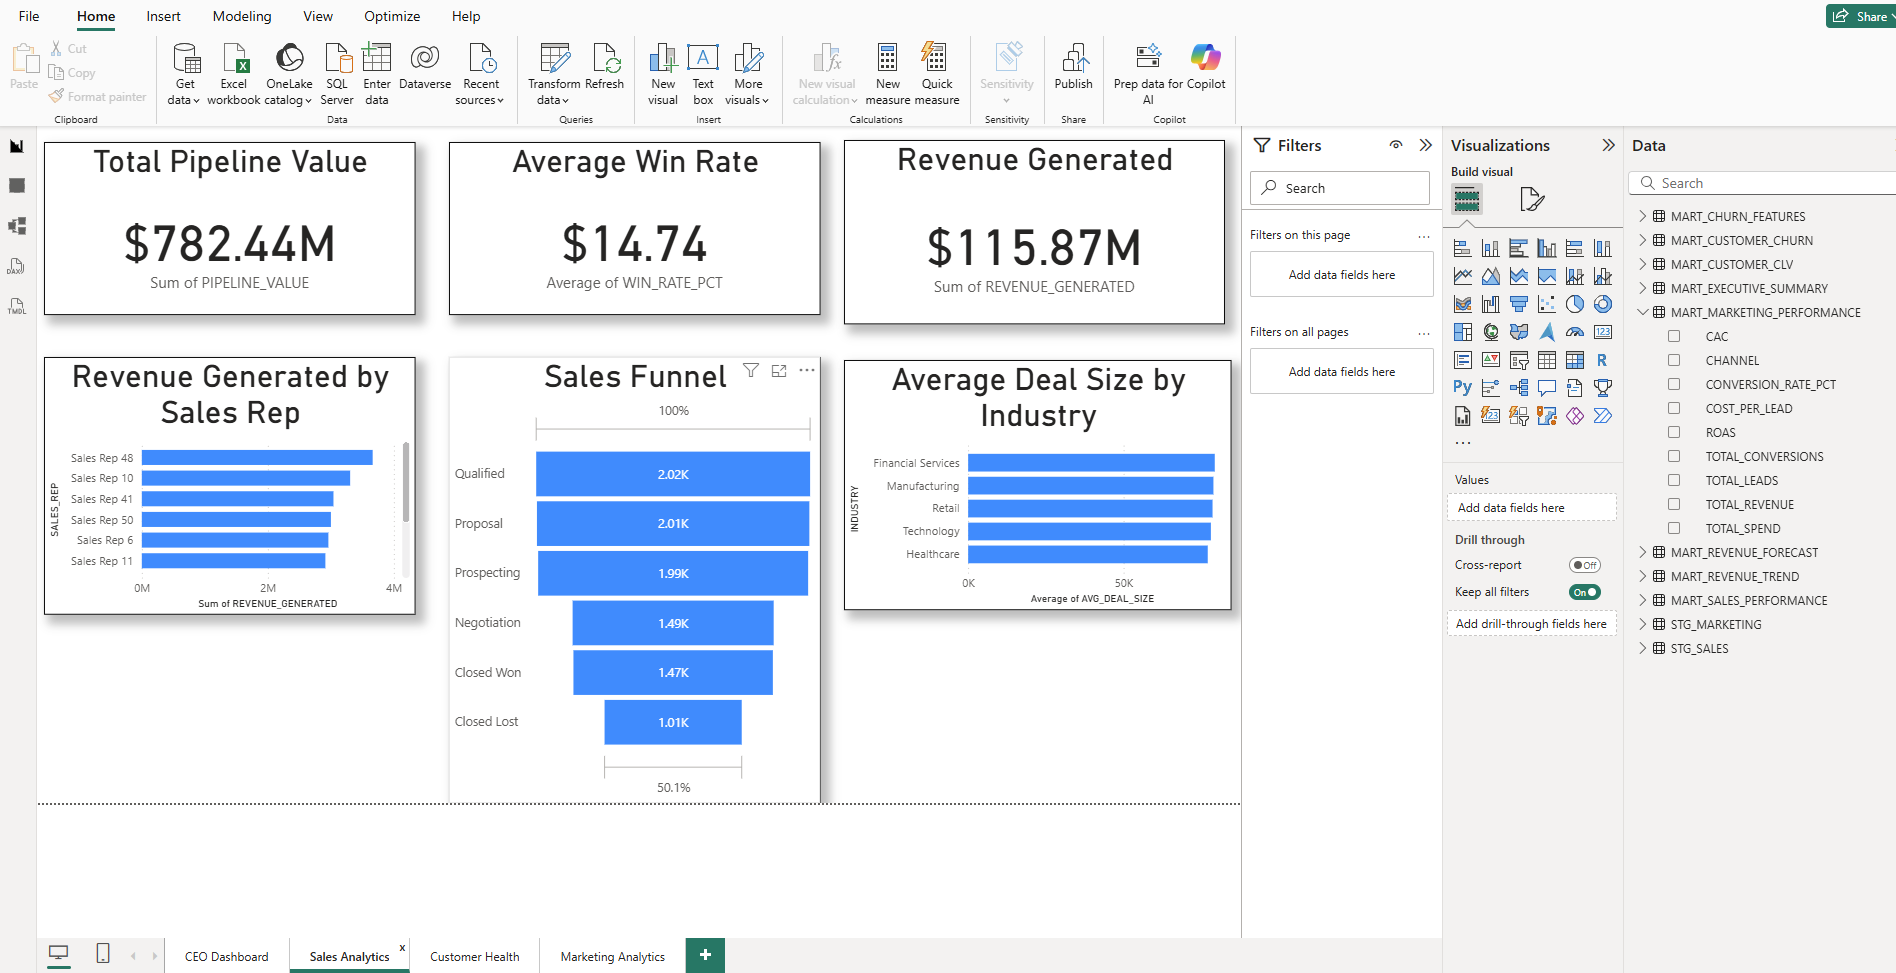

What the dashboard file says about the page in this screenshot:
{"tool":"powerbi","page":{"name":"Sales Analytics","canvas":[1280,720],"ordinal":1},"visuals":[{"type":"card","title":"Total Pipeline Value","fields":{"Values":["Sum(MART_SALES_PERFORMANCE.PIPELINE_VALUE)"]},"box":[7.8,16.5,394.9,183.8],"z":0},{"type":"card","title":"Average Win Rate","fields":{"Values":["Avg(MART_SALES_PERFORMANCE.WIN_RATE_PCT)"]},"box":[437.7,16.5,394.9,183.8],"z":1000},{"type":"card","title":"Revenue Generated","fields":{"Values":["Sum(MART_SALES_PERFORMANCE.REVENUE_GENERATED)"]},"box":[857.9,14.6,404.6,196.5],"z":2000},{"type":"clusteredBarChart","title":"Revenue Generated by Sales Rep","fields":{"Category":["MART_SALES_PERFORMANCE.SALES_REP"],"Y":["Sum(MART_SALES_PERFORMANCE.REVENUE_GENERATED)"]},"box":[7.5,245.1,394.9,274],"z":3000},{"type":"clusteredBarChart","title":"Average Deal Size by Industry","fields":{"Category":["MART_SALES_PERFORMANCE.INDUSTRY"],"Y":["Avg(MART_SALES_PERFORMANCE.AVG_DEAL_SIZE)"]},"box":[857.9,249,412.4,265.5],"z":4000},{"type":"funnel","title":"Sales Funnel","fields":{"Category":["STG_SALES.STAGE"],"Y":["CountNonNull(STG_SALES.OPPORTUNITY_ID)"]},"box":[437.7,245.1,394.9,474.7],"z":5000}]}

Visuals, with their boxes on the page's 1280x720 design canvas (x1, y1, x2, y2). These are canvas units, not pixel positions in the 1896x973 screenshot, which may show the page scaled, cropped or inside an application window:
"Total Pipeline Value" card: (8,16,403,200)
"Average Win Rate" card: (438,16,833,200)
"Revenue Generated" card: (858,15,1262,211)
"Revenue Generated by Sales Rep" clusteredBarChart: (8,245,402,519)
"Average Deal Size by Industry" clusteredBarChart: (858,249,1270,514)
"Sales Funnel" funnel: (438,245,833,720)
